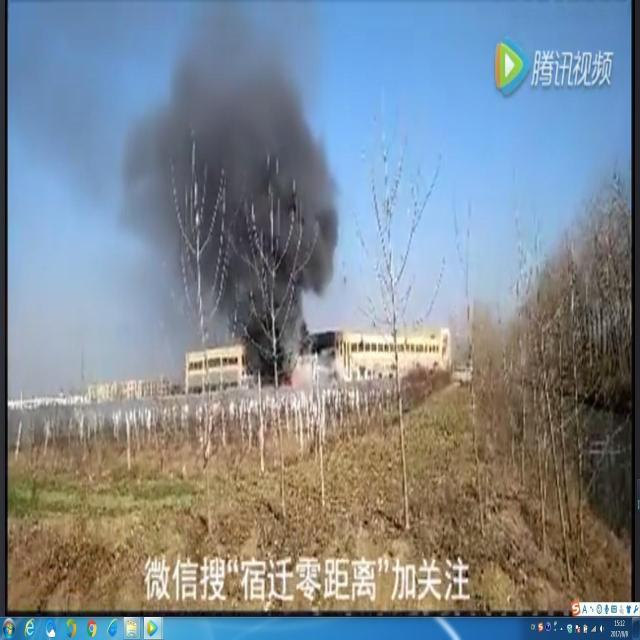Smoke: (8, 0, 346, 385)
